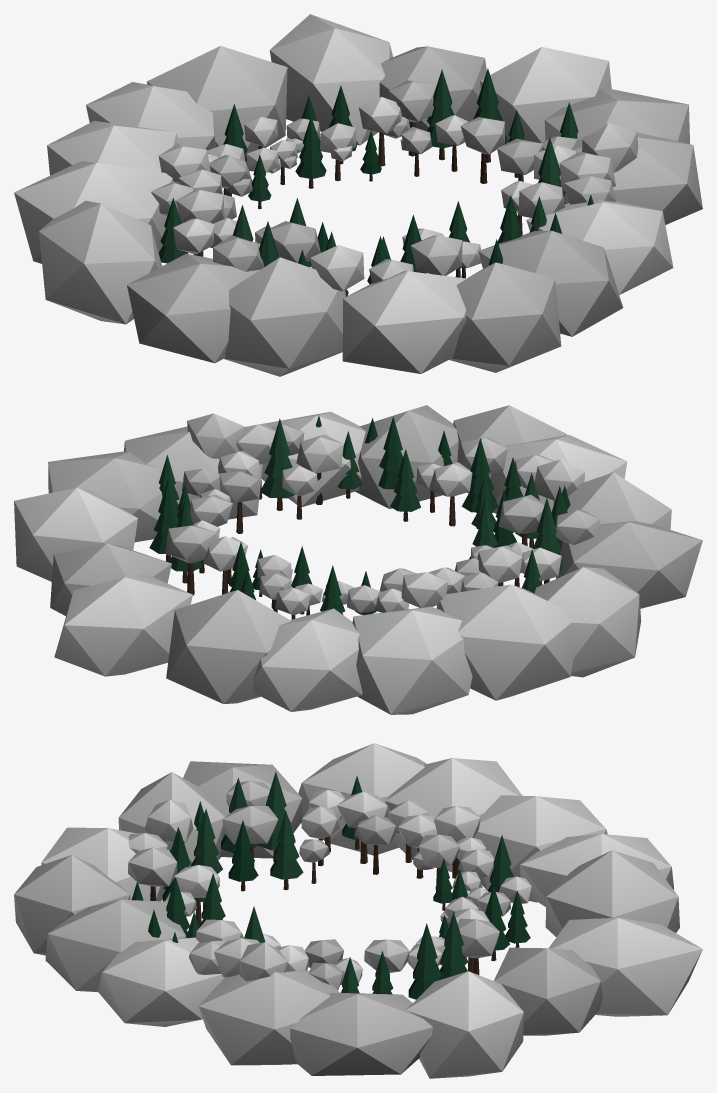
Rendered from forest.glb.
The picture shows the model from 3 angles, top to bottom: view 1: azimuth 30°, elevation 25°; view 2: azimuth 150°, elevation 25°; view 3: azimuth 270°, elevation 25°; orthographic projection. The views are drawn at different scales.
Visible parts, largest first — view 1: forest_leaf, forest_fixed; view 2: forest_leaf, forest_fixed; view 3: forest_leaf, forest_fixed.
Boxes of the visible parts, bbox=[...] form: forest_leaf: bbox=[14, 14, 702, 376]; forest_fixed: bbox=[158, 68, 593, 296]; forest_leaf: bbox=[14, 405, 702, 714]; forest_fixed: bbox=[149, 416, 570, 619]; forest_leaf: bbox=[14, 743, 702, 1078]; forest_fixed: bbox=[131, 771, 530, 999].
Size of the model in its own units: 38.01 by 7.87 by 37.36.
